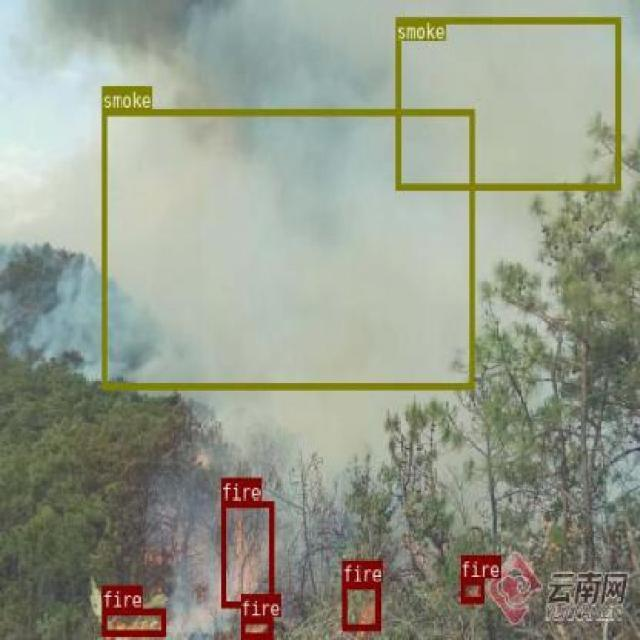Fire: (220, 500, 272, 606), (102, 608, 164, 636), (342, 582, 378, 628), (239, 616, 272, 638), (459, 578, 484, 602)
Smoke: (100, 109, 474, 388), (395, 17, 620, 190)
